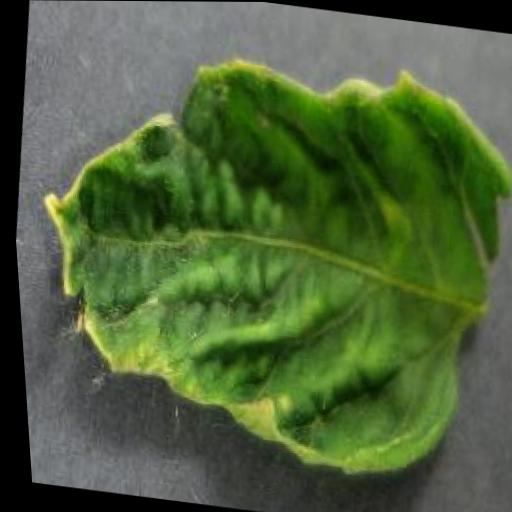Yellow Leaf Curl Virus: (1, 27, 512, 494)
